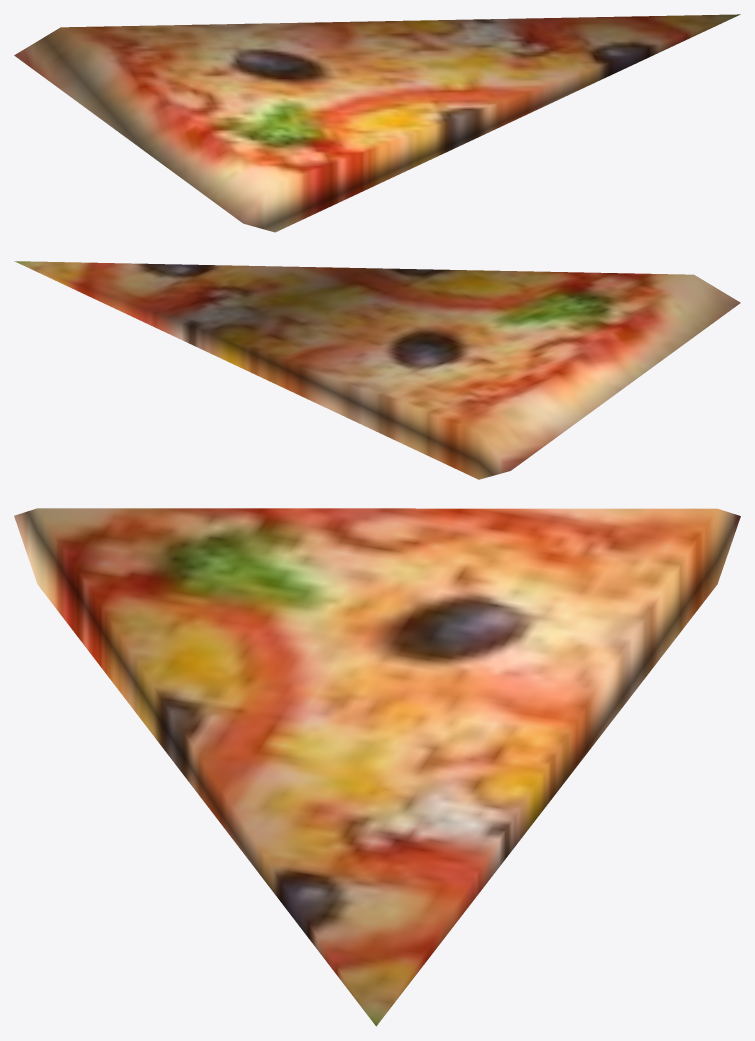
The model's file is Sliced_pizza_01.glb.
The picture shows the model from 3 angles, top to bottom: view 1: azimuth 30°, elevation 25°; view 2: azimuth 150°, elevation 25°; view 3: azimuth 270°, elevation 25°; orthographic projection. The views are drawn at different scales.
Visible parts, largest first — view 1: Sliced_pizza_01; view 2: Sliced_pizza_01; view 3: Sliced_pizza_01.
Part boxes in pixels (x1,y1,x2,y2): Sliced_pizza_01: (14, 14, 740, 232); Sliced_pizza_01: (14, 261, 740, 479); Sliced_pizza_01: (14, 508, 740, 1026).
Bounding box in the file's own units: 0.2582 × 0.0193 × 0.1677.
1 material, 1 textured.
